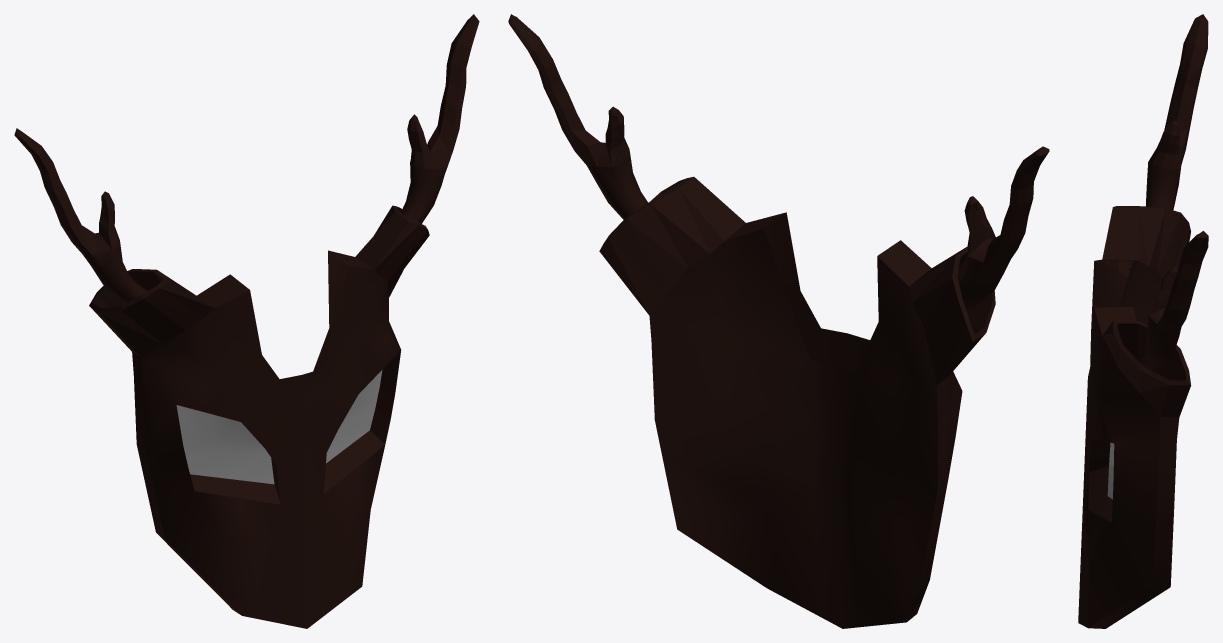
File: warrior_mask_lvl2.FBX
The picture shows the model from 3 angles, left to right: view 1: azimuth 30°, elevation 25°; view 2: azimuth 150°, elevation 25°; view 3: azimuth 270°, elevation 25°; orthographic projection. The views are drawn at different scales.
Visible parts, largest first — view 1: Cylinder008; view 2: Cylinder008; view 3: Cylinder008.
Boxes of the visible parts, x1,y1,x2,y2 form: Cylinder008: (14,14,479,628); Cylinder008: (508,14,1049,628); Cylinder008: (1078,14,1208,628).
Size of the model in its own units: 45.56 by 48.28 by 11.35.
